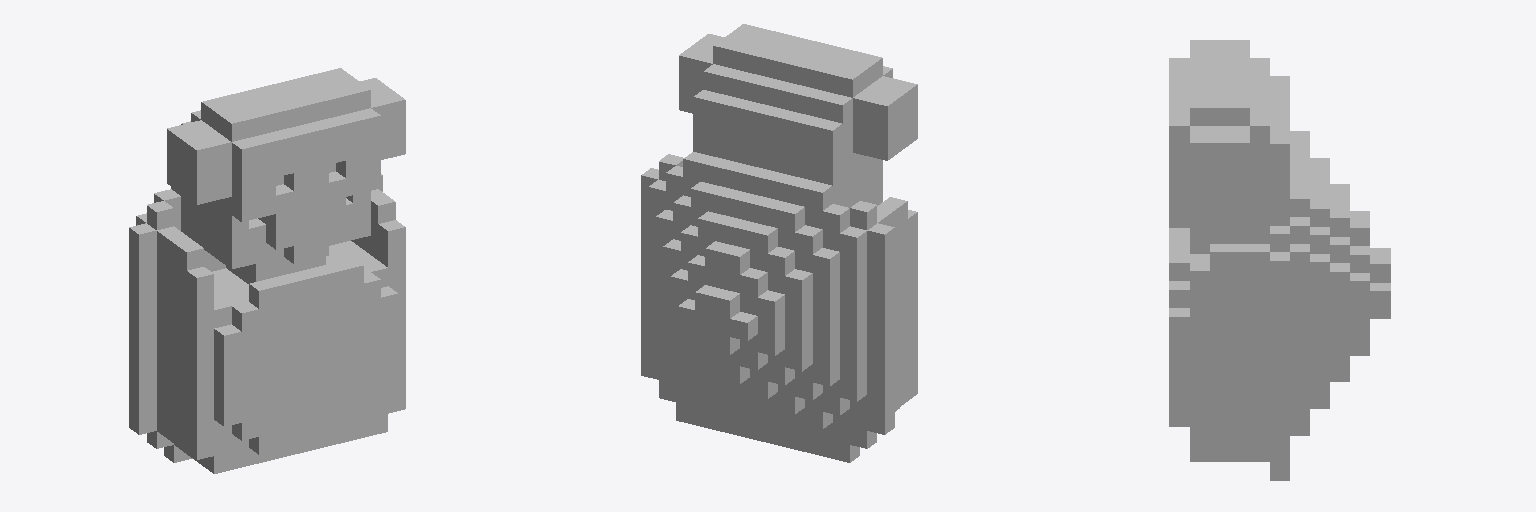
Rendered from turtle.obj.
The picture shows the model from 3 angles: view 1: azimuth 30°, elevation 25°; view 2: azimuth 150°, elevation 25°; view 3: azimuth 270°, elevation 25°; orthographic projection.
Visible parts, largest first — view 1: object 1; view 2: object 1; view 3: object 1.
Part boxes in pixels (x1,y1,x2,y2): object 1: (129,68,405,473); object 1: (641,24,917,462); object 1: (1169,40,1390,480).
Size of the model in its own units: 1.4 by 2 by 1.1.